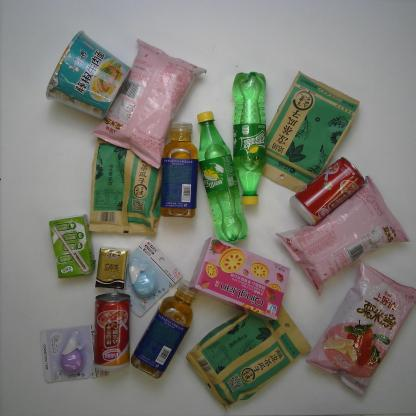Canned Food: (289, 156, 366, 226), (92, 292, 130, 372)
Dessert: (188, 236, 290, 322)
Dried Food: (185, 295, 312, 411), (260, 70, 360, 194), (88, 132, 164, 236)
Drink: (197, 110, 249, 244), (130, 281, 198, 379), (231, 72, 267, 206), (159, 122, 197, 219)
Instant Noodles: (45, 30, 132, 120)
Milk: (48, 214, 96, 278)
Puffed Food: (275, 175, 411, 296), (305, 257, 416, 398), (92, 38, 209, 170)
Stationery: (109, 238, 184, 318), (39, 323, 111, 382)
Tissue: (94, 247, 130, 291)
